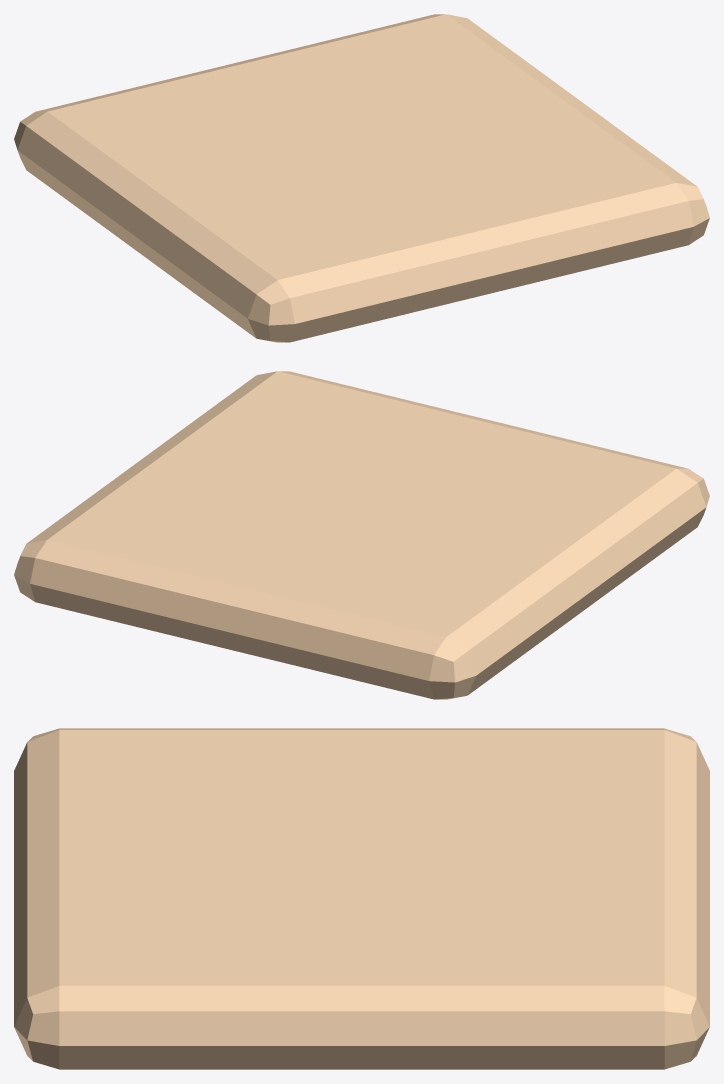
The model's file is PR3D_Tile_Center.fbx.
3 renders of one model, top to bottom at view 1: azimuth 30°, elevation 25°; view 2: azimuth 150°, elevation 25°; view 3: azimuth 270°, elevation 25°, orthographic. The views are drawn at different scales.
Parts seen in each view (by area): view 1: Visual_Center; view 2: Visual_Center; view 3: Visual_Center.
Part boxes in pixels (x1=…): Visual_Center: x1=14, y1=14, x2=709, y2=342; Visual_Center: x1=14, y1=371, x2=709, y2=699; Visual_Center: x1=14, y1=728, x2=709, y2=1069.
Bounding box in the file's own units: 0.92 × 0.12 × 0.92.
